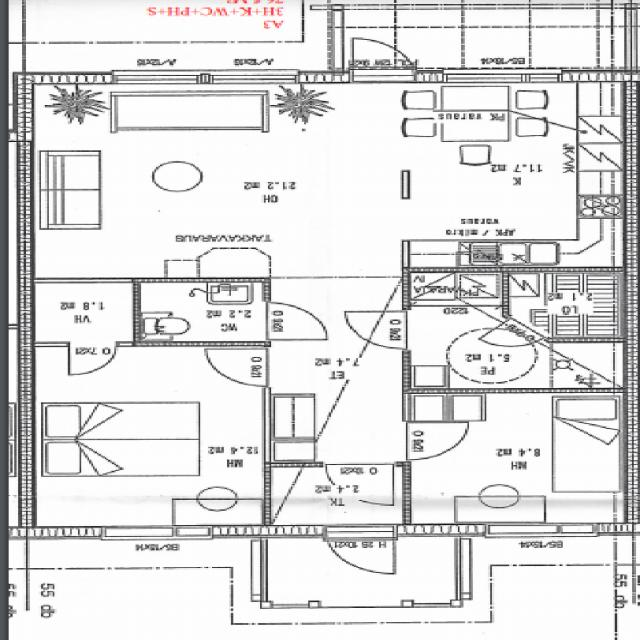door: (326, 525, 396, 579), (352, 33, 413, 84), (326, 462, 392, 509), (477, 317, 547, 361), (263, 302, 333, 340), (342, 312, 410, 349), (204, 349, 271, 386), (403, 423, 469, 460), (70, 342, 114, 375)
